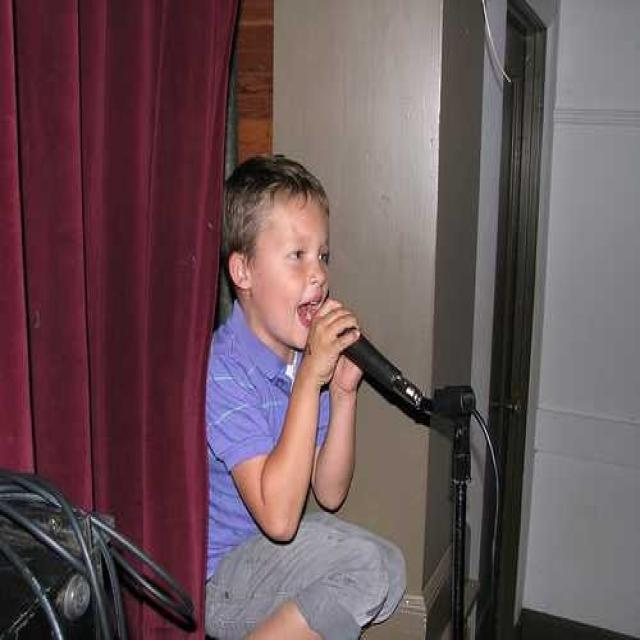microphone: (292, 295, 434, 420)
